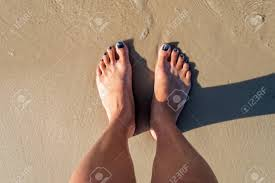Feet: (149, 42, 192, 142), (94, 39, 136, 140)
